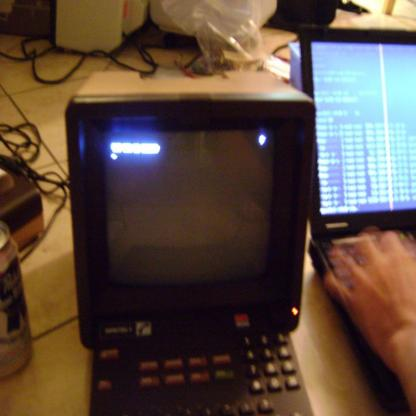board: (297, 22, 415, 413), (0, 220, 34, 377)
